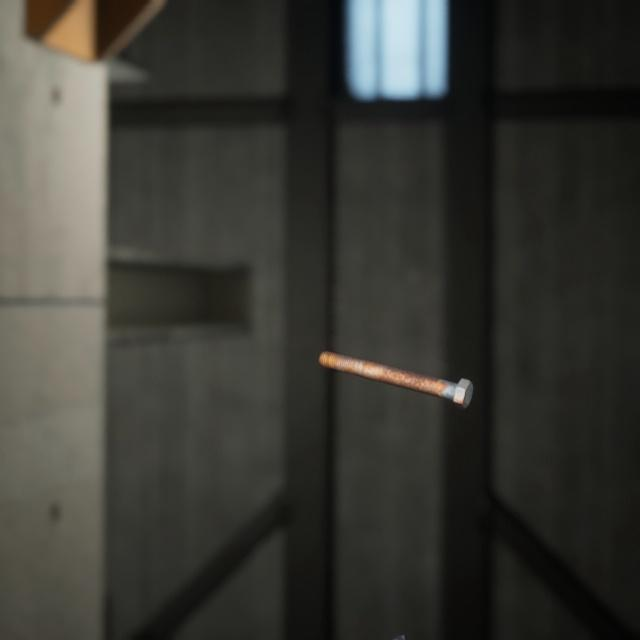bolt: (314, 328, 477, 395)
nut: (375, 607, 416, 640)
